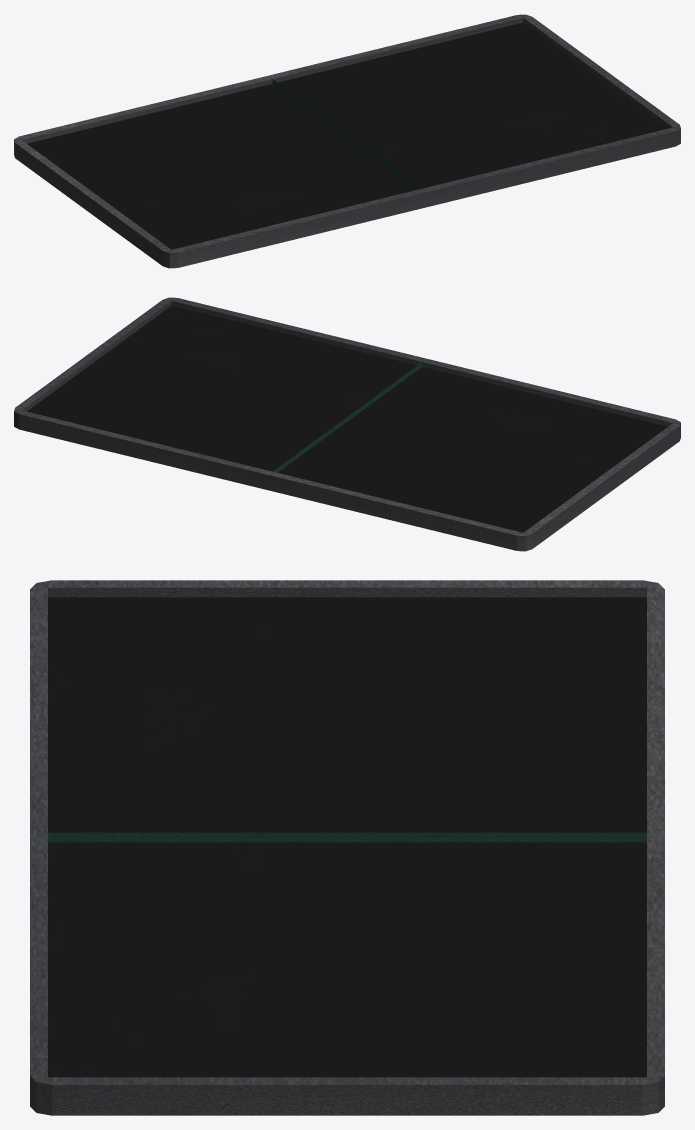
File: 05_wall_TV_destructible_largeparts.glb
3 renders of one model, top to bottom at view 1: azimuth 30°, elevation 25°; view 2: azimuth 150°, elevation 25°; view 3: azimuth 270°, elevation 25°, orthographic. The views are drawn at different scales.
Visible parts, largest first — view 1: Screen_Panel, Housing_Left, Housing_Right; view 2: Screen_Panel, Housing_Left, Housing_Right; view 3: Screen_Panel, Housing_Right, Housing_Left.
Part boxes in pixels (x1=…): Screen_Panel: x1=27, y1=22, x2=667, y2=249; Housing_Left: x1=14, y1=76, x2=426, y2=268; Housing_Right: x1=268, y1=14, x2=680, y2=206; Screen_Panel: x1=27, y1=305, x2=667, y2=532; Housing_Left: x1=268, y1=359, x2=680, y2=551; Housing_Right: x1=14, y1=297, x2=426, y2=489; Screen_Panel: x1=48, y1=597, x2=646, y2=1077; Housing_Right: x1=30, y1=832, x2=664, y2=1115; Housing_Left: x1=30, y1=580, x2=664, y2=842.
Size of the model in its own units: 1.05 by 0.0445 by 0.5576.
3 materials, 3 textured.
